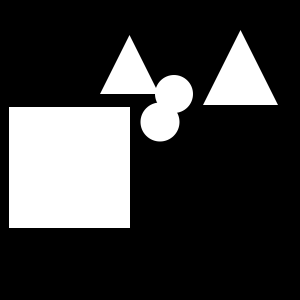circle: (9, 107, 130, 228)
rectangle: (140, 102, 180, 142), (155, 75, 193, 113)
triangle: (203, 30, 278, 105), (100, 35, 159, 94)
